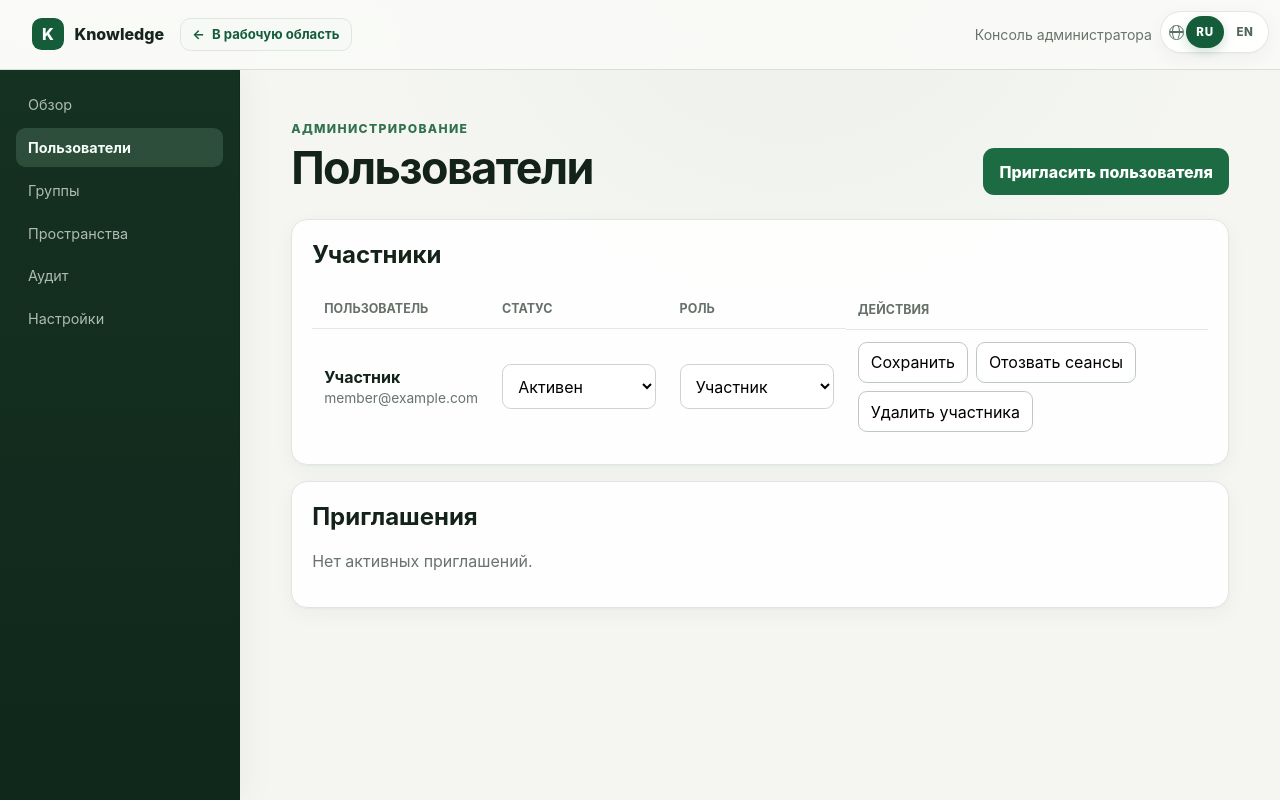
it: users and invitations administration › requires an explicit confirmation before deleting a member
Click the button with aria-label "Удалить участника Участник": [945, 412] box [858,391,1033,432]
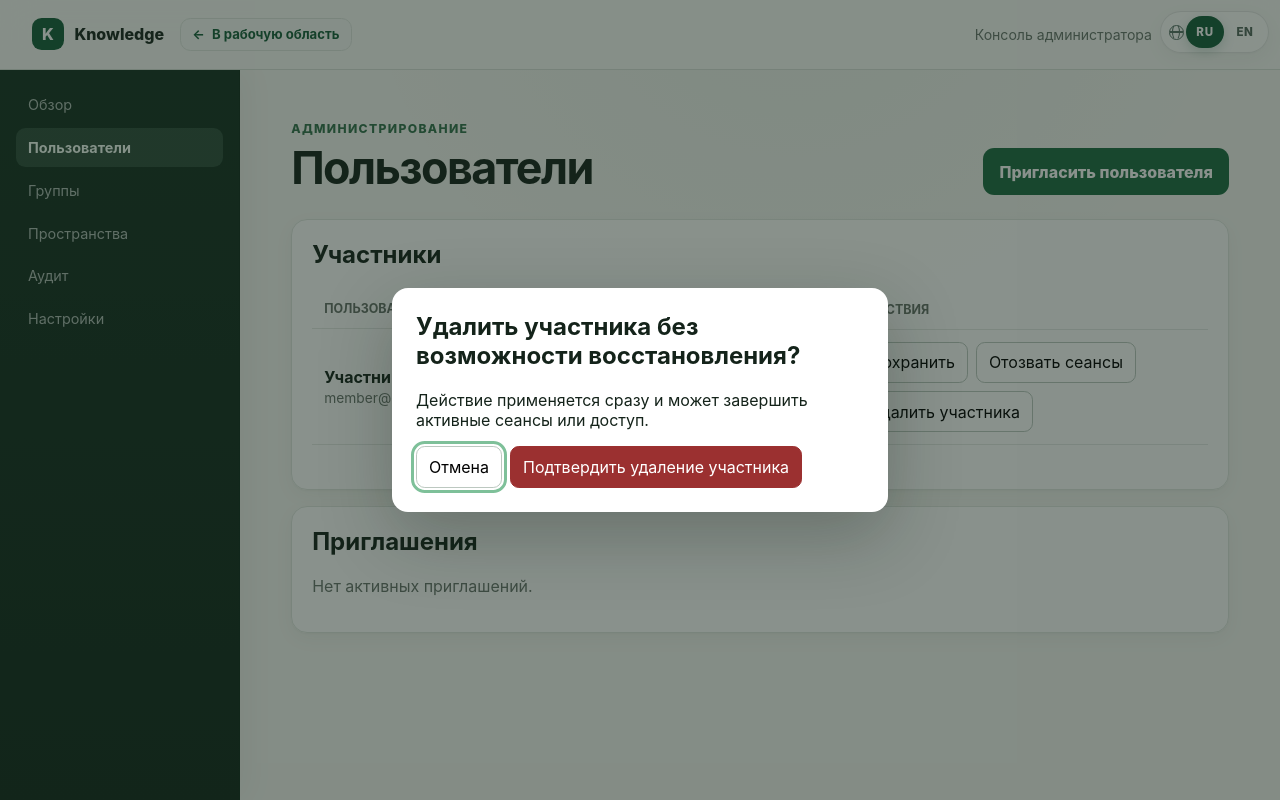
Click the button "Отмена": [459, 467] box [416,446,502,488]
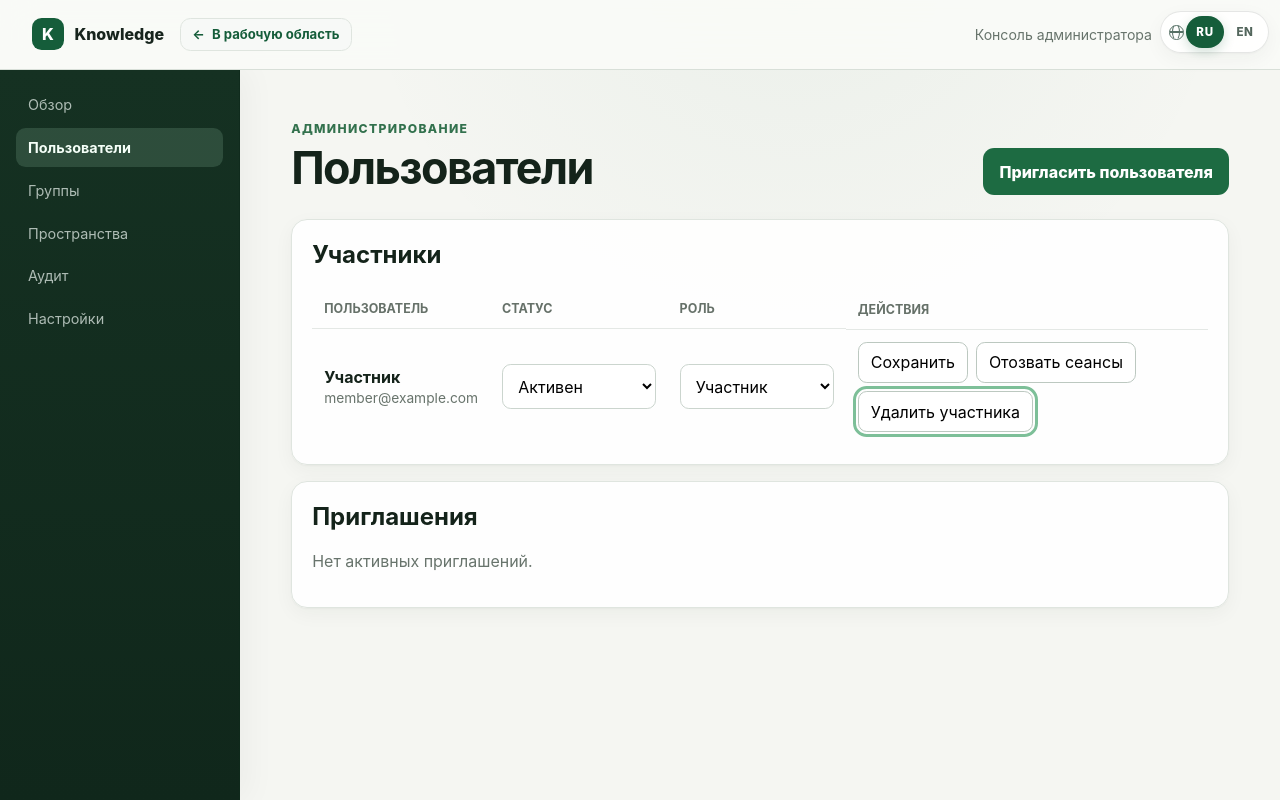
Click the button with aria-label "Удалить участника Участник": [945, 412] box [858,391,1033,432]
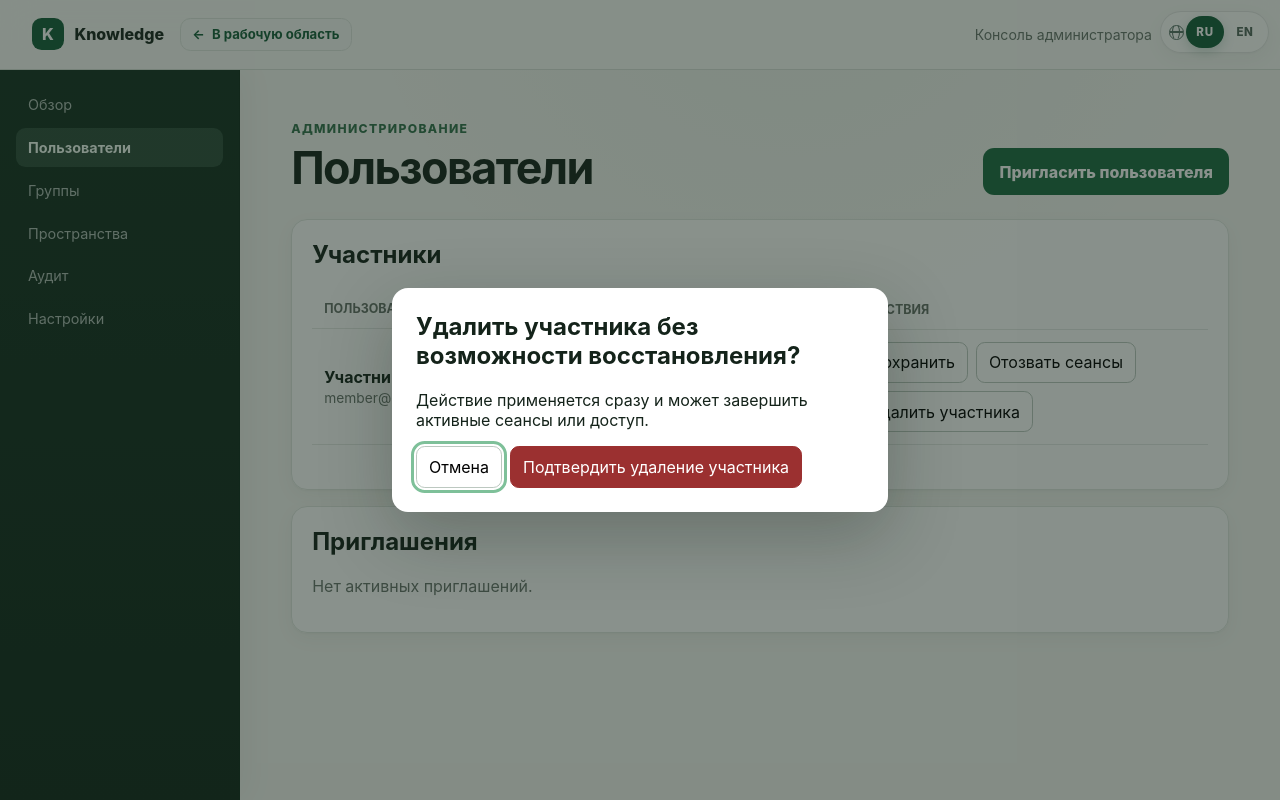
Click the button "Подтвердить удаление участника": [656, 467] box [510,446,802,488]
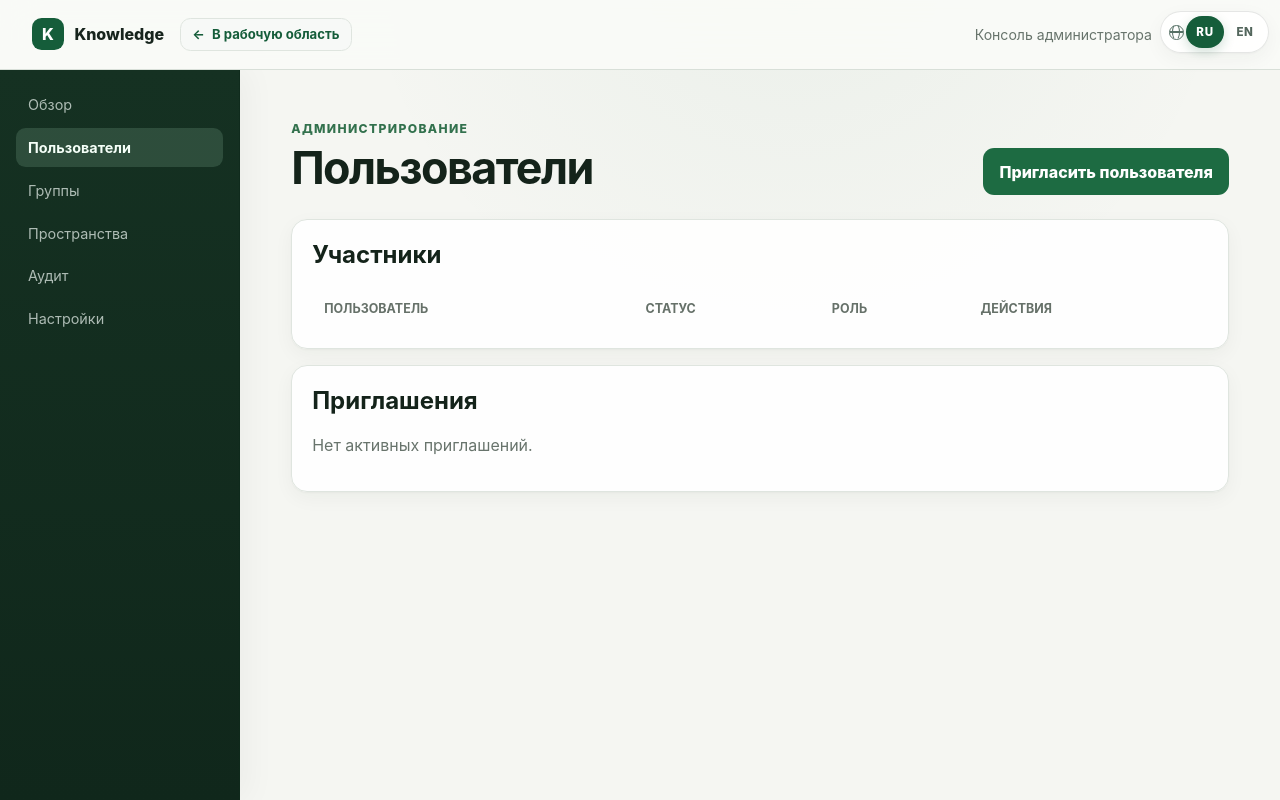
Check: the text "member@example.com" is gone
